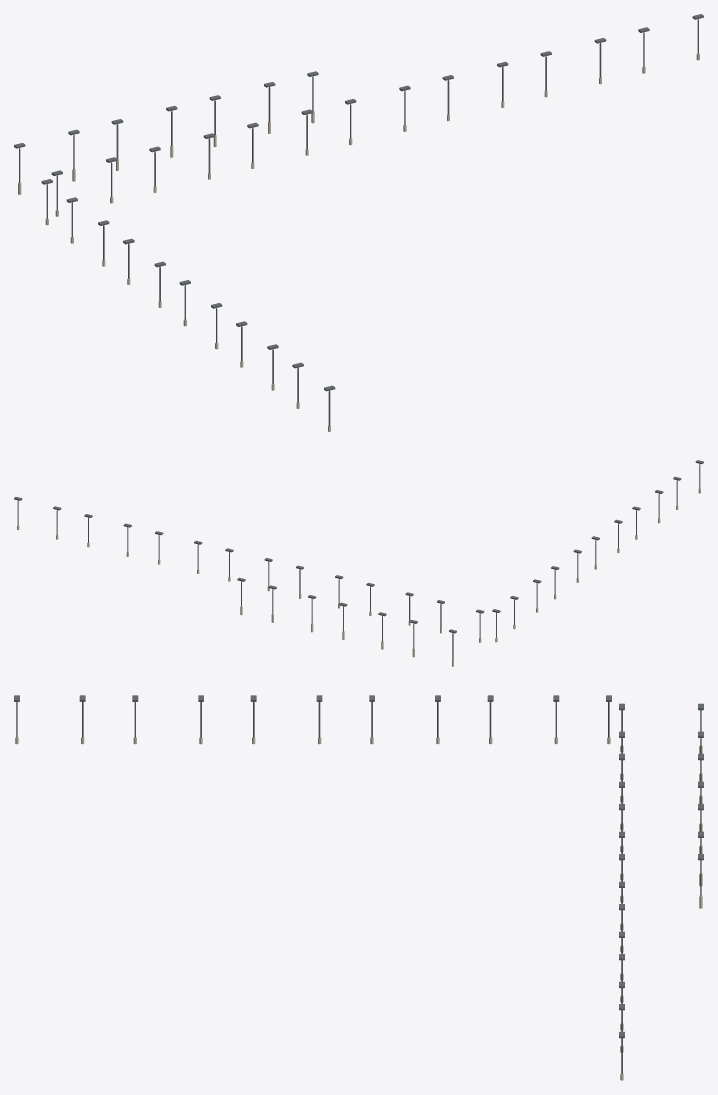
The picture shows the model from 3 angles, top to bottom: view 1: azimuth 30°, elevation 25°; view 2: azimuth 150°, elevation 25°; view 3: azimuth 270°, elevation 25°; orthographic projection. The views are drawn at different scales.
Parts seen in each view (by area): view 1: buildings_s_-7_-1_Dark_Metal, buildings_s_-7_-1_Warm_Limestone; view 2: buildings_s_-7_-1_Dark_Metal, buildings_s_-7_-1_Warm_Limestone; view 3: buildings_s_-7_-1_Dark_Metal, buildings_s_-7_-1_Warm_Limestone.
Part boxes in pixels (x1,y1,x2,y2): buildings_s_-7_-1_Dark_Metal: [14, 14, 703, 425]; buildings_s_-7_-1_Warm_Limestone: [18, 53, 699, 431]; buildings_s_-7_-1_Dark_Metal: [14, 460, 703, 658]; buildings_s_-7_-1_Warm_Limestone: [17, 488, 700, 666]; buildings_s_-7_-1_Dark_Metal: [14, 695, 703, 1074]; buildings_s_-7_-1_Warm_Limestone: [15, 737, 702, 1080].
Size of the model in its own units: 123 by 8.68 by 105.
